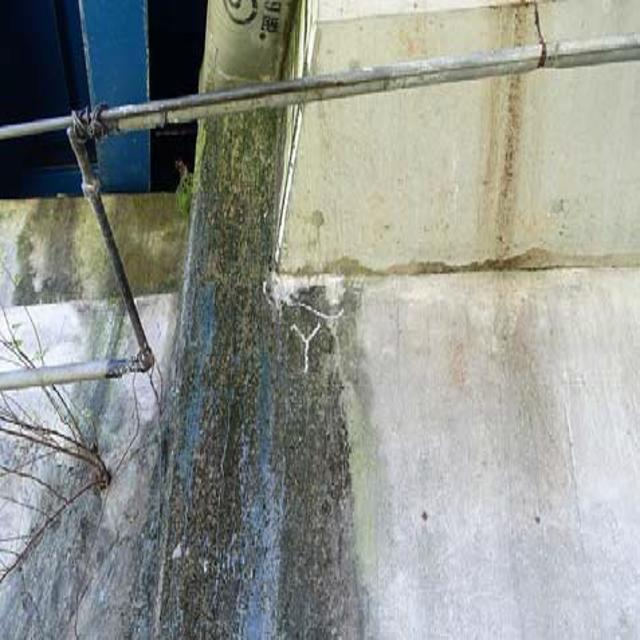freelime: (266, 266, 348, 304)
